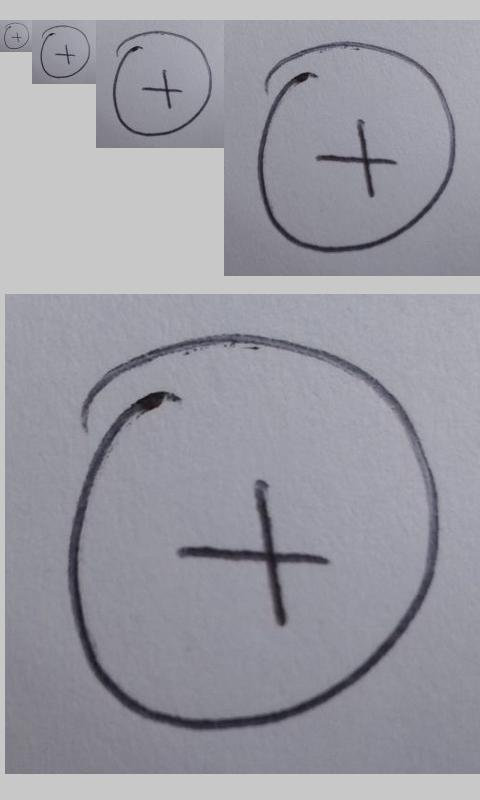button: (67, 333, 441, 730), (256, 40, 457, 254), (112, 30, 214, 137), (40, 25, 91, 79), (3, 22, 30, 50)
